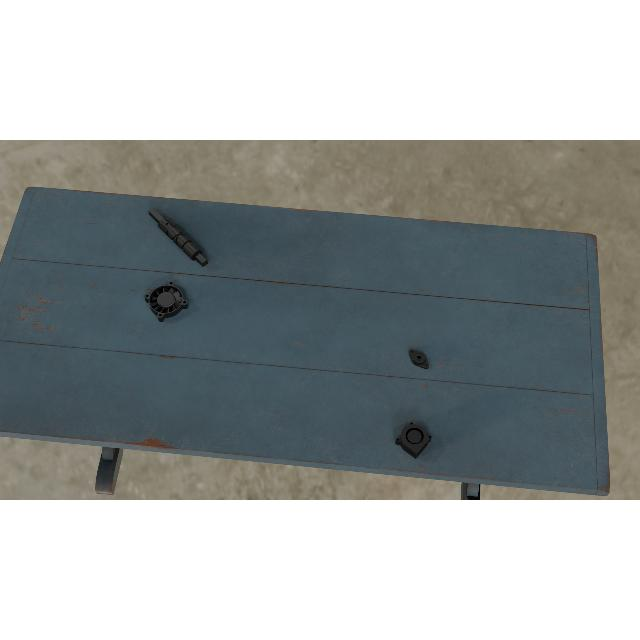Pieza1: (146, 203, 210, 270)
Pieza2: (404, 345, 434, 373)
Pieza3: (393, 418, 433, 459)
Pieza4: (143, 280, 190, 324)
